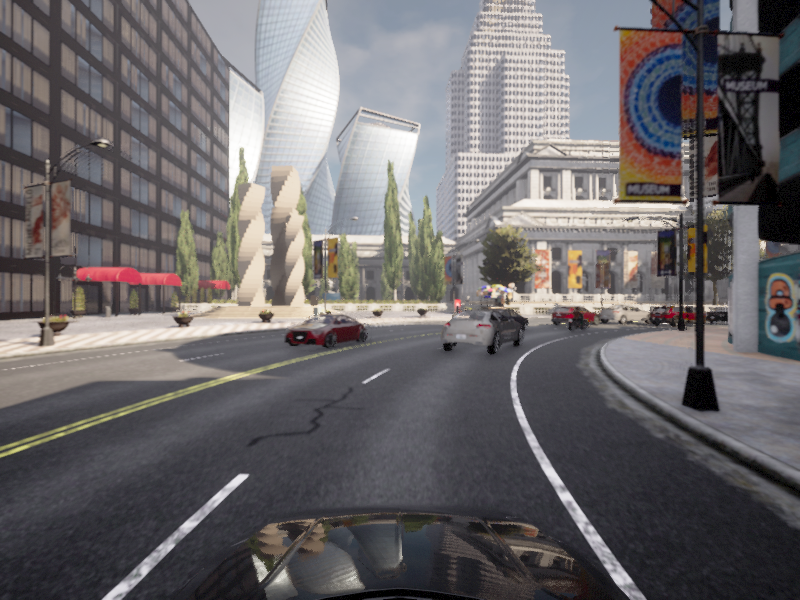vehicle: (434, 308, 526, 357), (278, 312, 371, 351), (468, 307, 532, 334), (701, 305, 774, 325), (644, 305, 709, 326), (594, 304, 655, 325), (546, 305, 603, 327), (648, 307, 714, 323), (564, 306, 592, 332)
